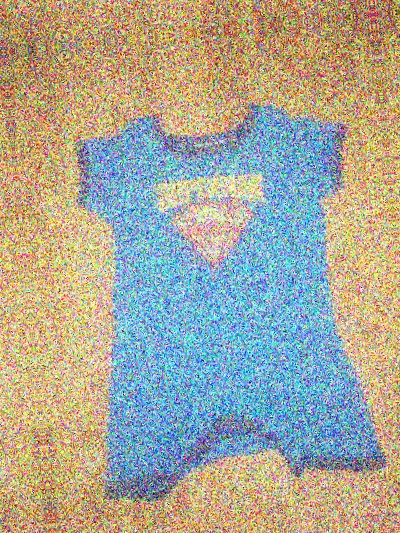Body: (39, 61, 400, 518), (0, 100, 19, 533), (395, 25, 400, 482), (0, 0, 352, 4)
